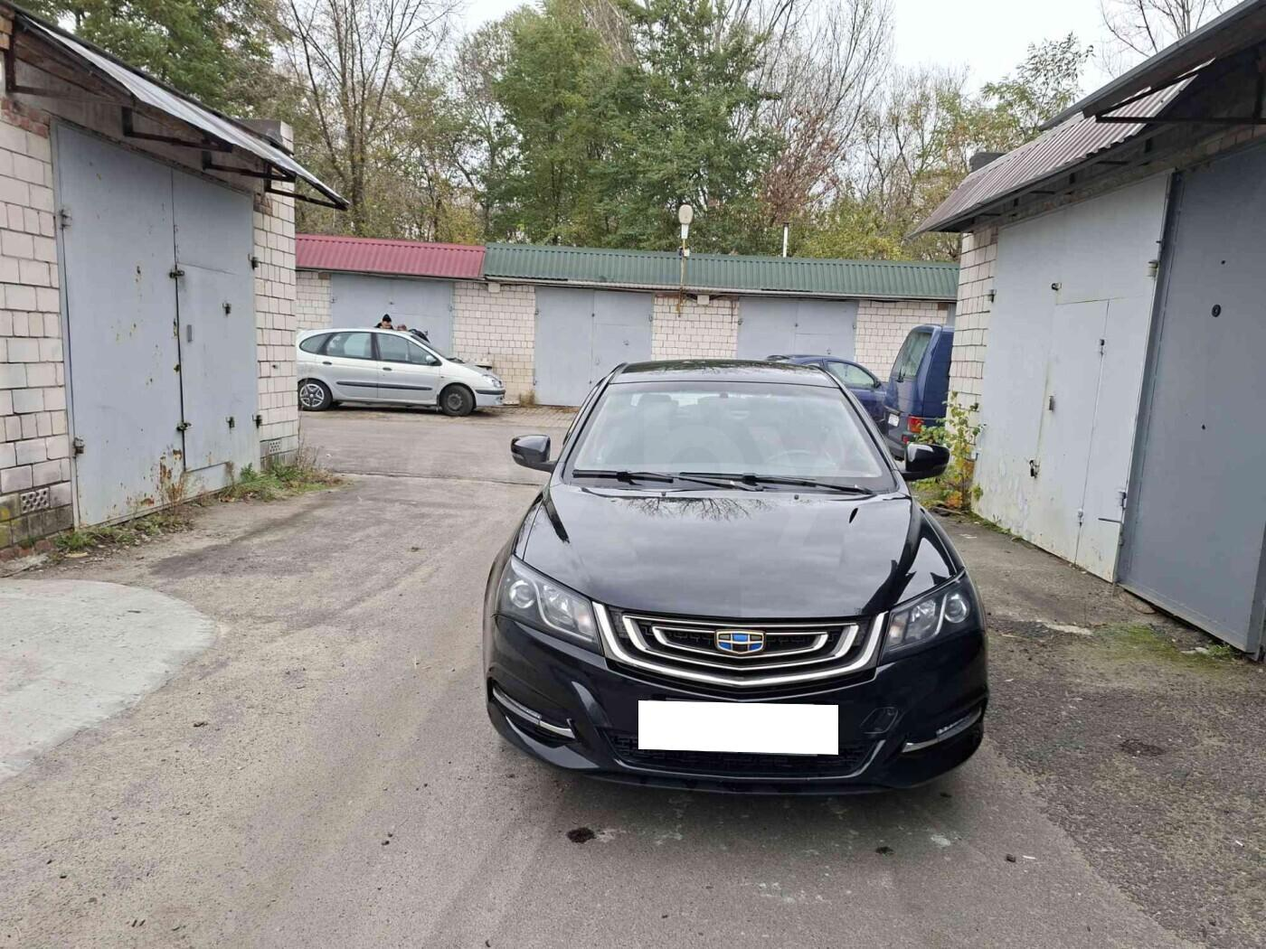Emgrand_2019-2021: (481, 359, 988, 793)
